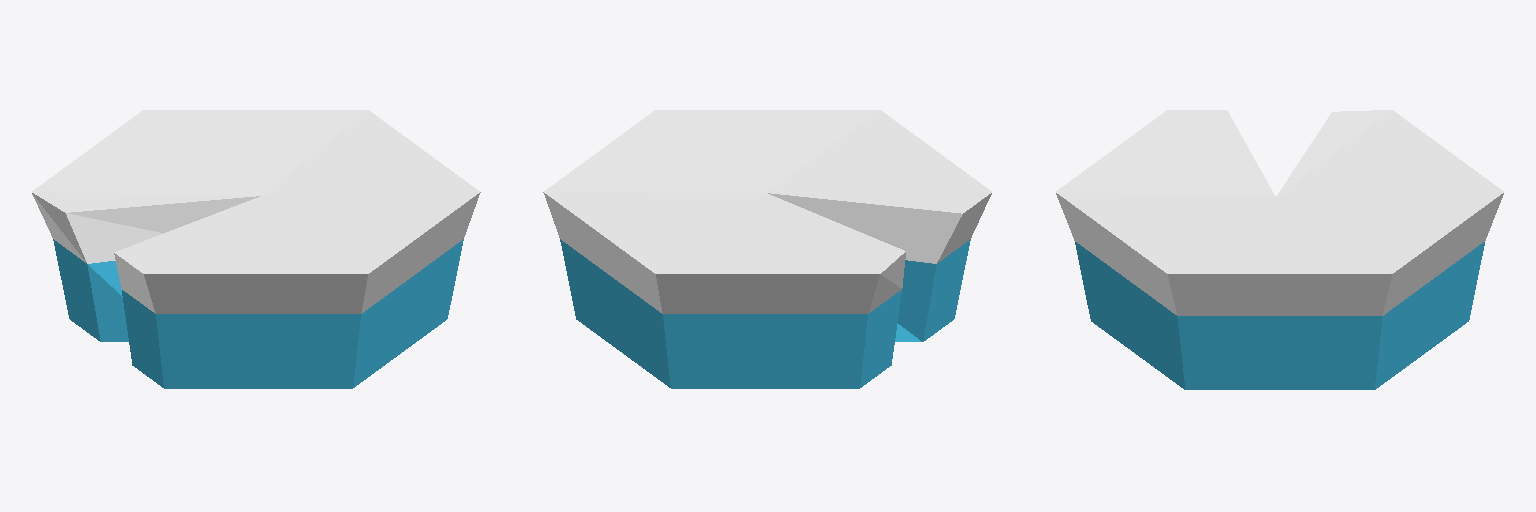
Rendered from iceberg.obj.
3 views of the same model, side by side, from view 1: azimuth 30°, elevation 25°; view 2: azimuth 150°, elevation 25°; view 3: azimuth 270°, elevation 25° (orthographic).
Visible parts, largest first — view 1: Hex.001; view 2: Hex.001; view 3: Hex.001.
Boxes of the visible parts, box(x1,y1,x2,y2) form: Hex.001: box(32, 110, 480, 388); Hex.001: box(543, 110, 991, 388); Hex.001: box(1056, 110, 1503, 389).
Bounding box in the file's own units: 0.9348 × 0.3392 × 1.08.